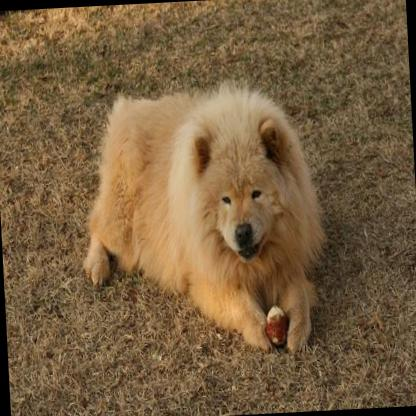chow: (70, 75, 327, 366)
